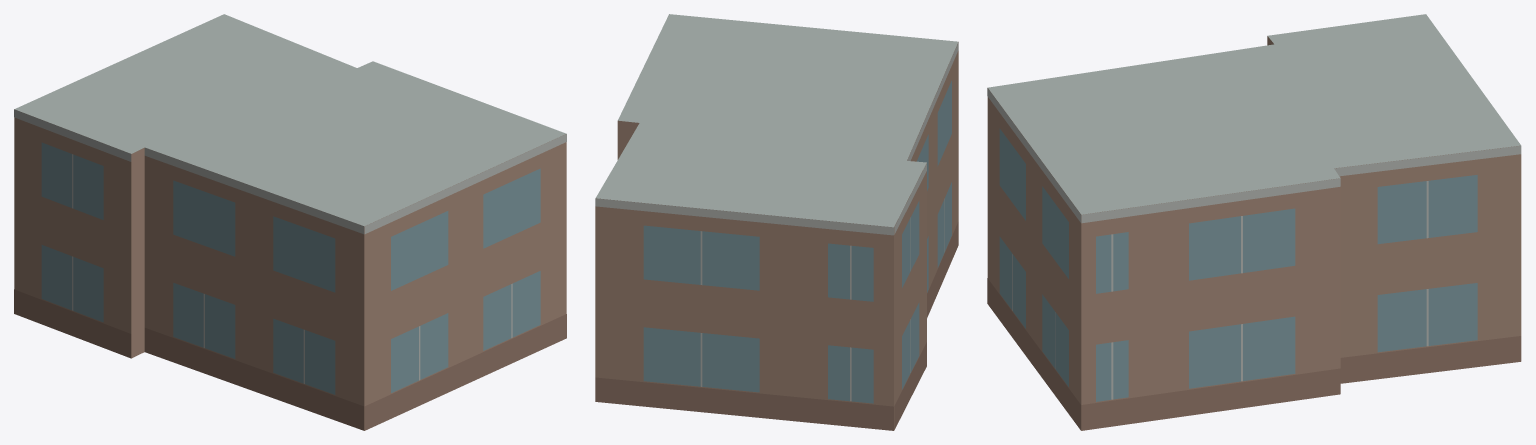
File: survey-upis-32972596.glb
The picture shows the model from 3 angles, left to right: view 1: azimuth 30°, elevation 25°; view 2: azimuth 150°, elevation 25°; view 3: azimuth 270°, elevation 25°; orthographic projection. The views are drawn at different scales.
Parts seen in each view (by area): view 1: survey-upis-32972596.tmp; view 2: survey-upis-32972596.tmp; view 3: survey-upis-32972596.tmp.
Part boxes in pixels (x1,y1,x2,y2): survey-upis-32972596.tmp: (14,14,566,430); survey-upis-32972596.tmp: (595,14,958,430); survey-upis-32972596.tmp: (987,14,1521,430).
Bounding box in the file's own units: 12.16 × 6.1 × 13.66.
